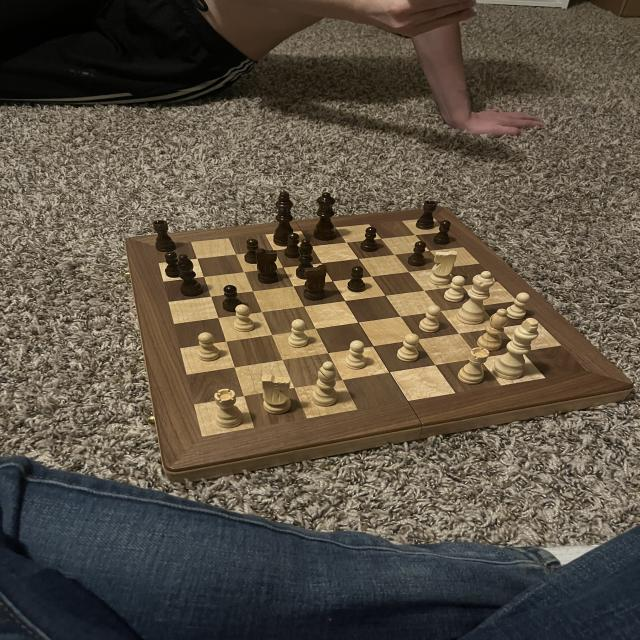bishop: (174, 252, 205, 297), (294, 237, 316, 280)
black-bishop: (271, 188, 300, 248)
black-king: (300, 264, 332, 303), (251, 247, 282, 284)
black-knight: (218, 282, 248, 314), (404, 238, 431, 270), (345, 265, 369, 294), (431, 219, 454, 247), (242, 236, 264, 265), (359, 225, 381, 254), (162, 250, 182, 281), (284, 231, 302, 261)
black-pawn: (310, 191, 344, 243)
black-queen: (150, 218, 179, 253), (414, 199, 438, 231)
black-rook: (476, 307, 514, 353), (310, 361, 342, 410)
white-bishop: (490, 316, 544, 382)
white-king: (256, 372, 296, 417), (428, 249, 462, 287)
white-knight: (396, 331, 424, 364), (342, 338, 369, 372), (194, 331, 222, 363), (503, 291, 532, 321), (232, 303, 258, 334), (285, 318, 311, 348), (443, 274, 469, 304), (418, 304, 442, 334)
white-pawn: (456, 269, 501, 327)
white-queen: (210, 387, 247, 431), (457, 346, 492, 388)
